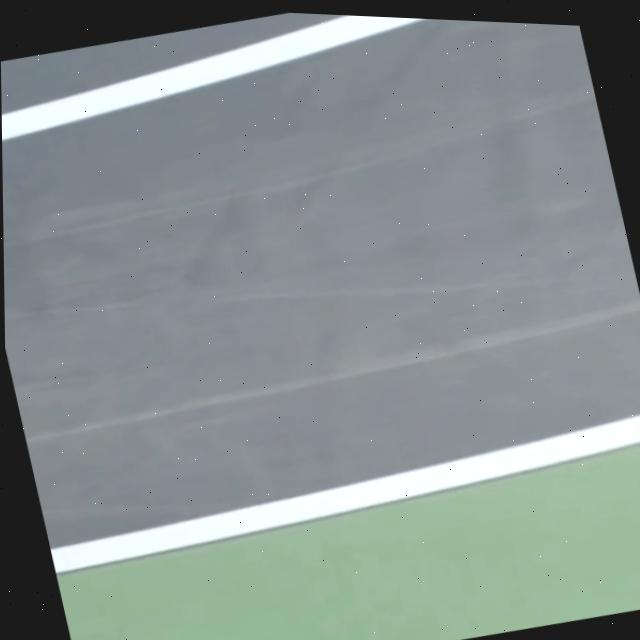center: (2, 15, 417, 139)
right: (49, 413, 640, 572)
